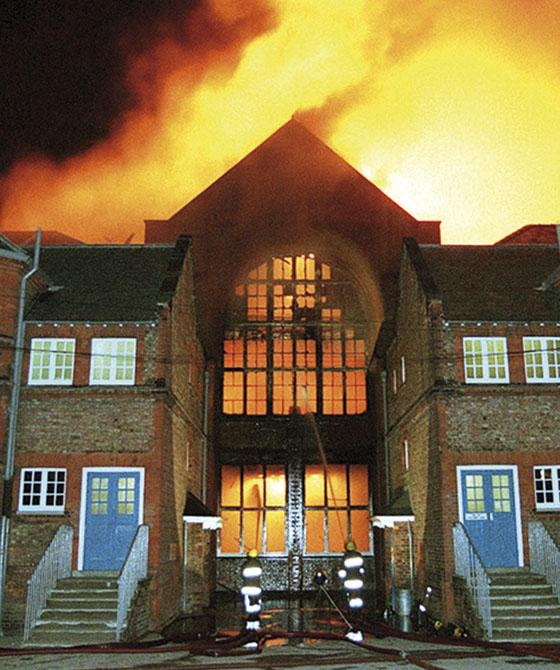Fire: (177, 170, 447, 578)
